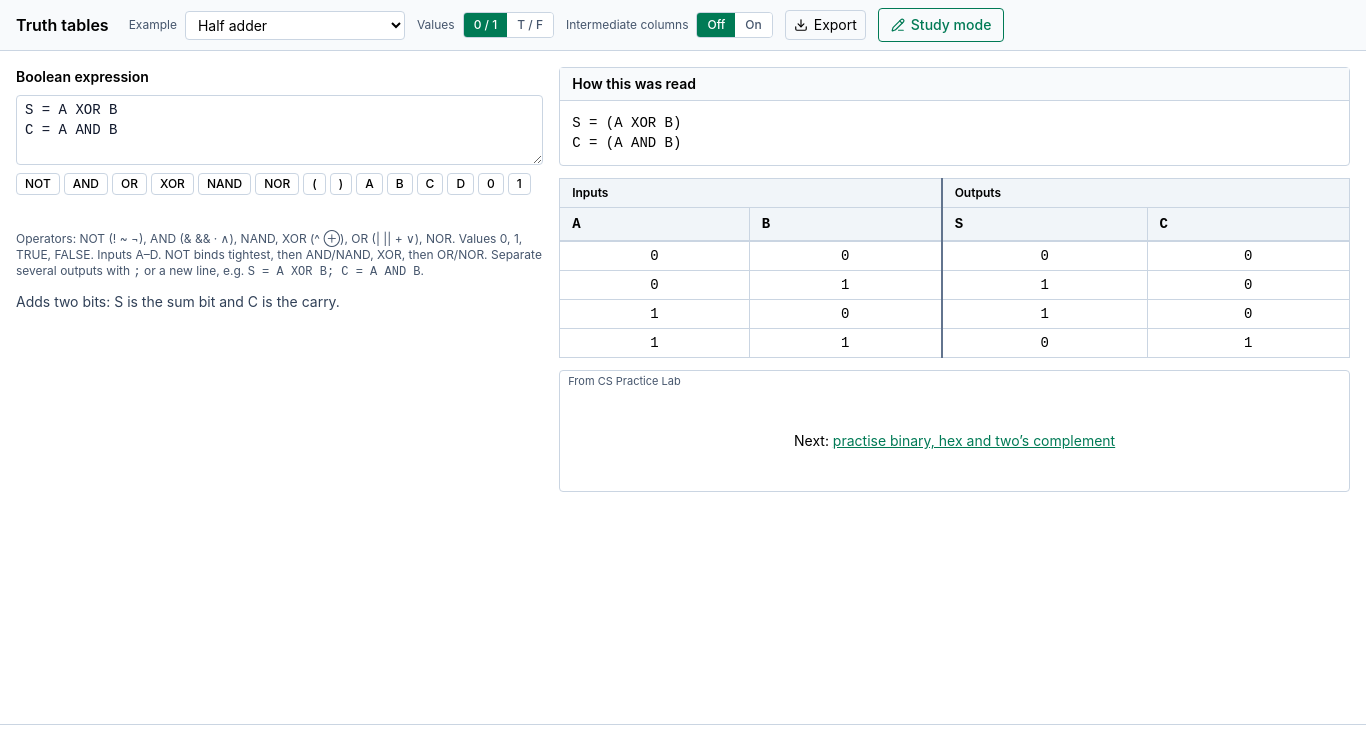
Truth Table Study Mode › keeps the keyboard contract: Enter/↓ next, Shift+Enter/↑ previous, Alt+H hint, Alt+R reveal, Space types
The width and height of the screenshot is (1366, 753).
Click the button "Study mode". click: (941, 25)
box: top-left (878, 8), bottom-right (1004, 42)
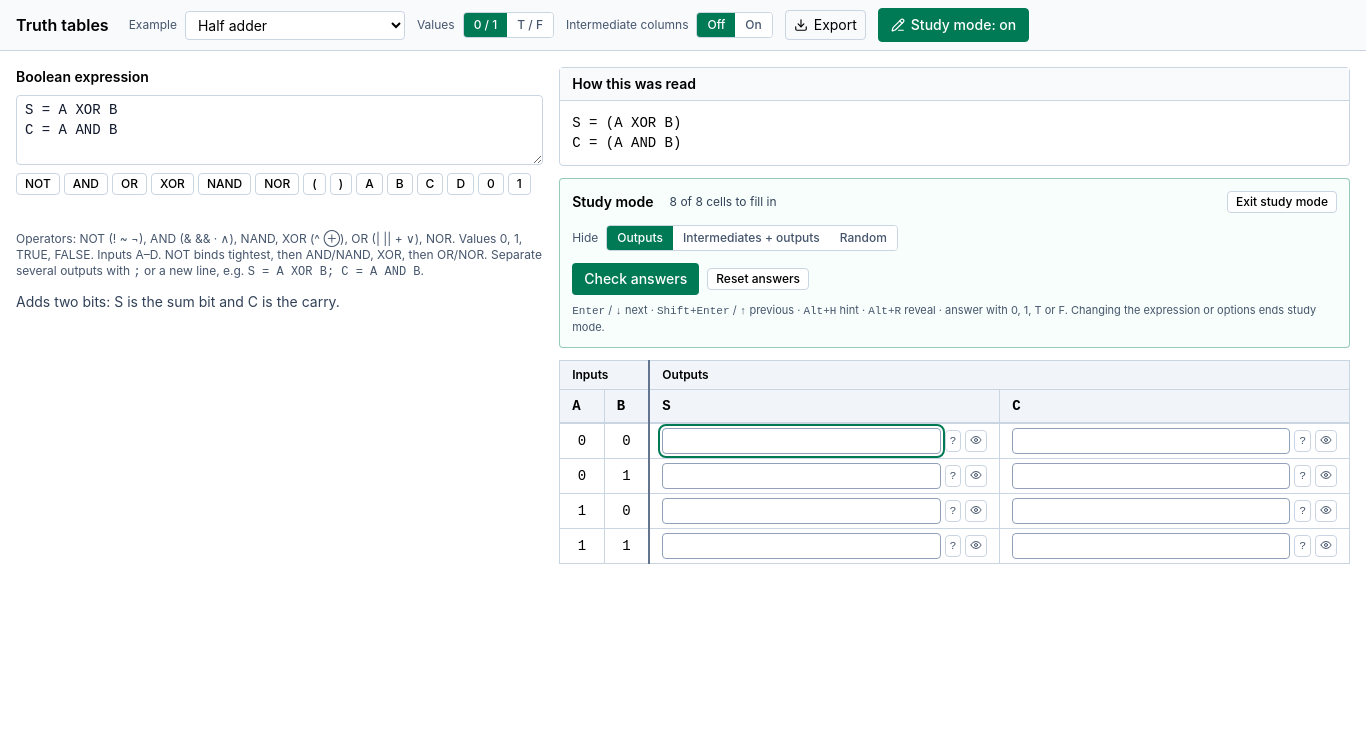
Expected: the number of fields named "Row 1, S" is 8
Press Enter
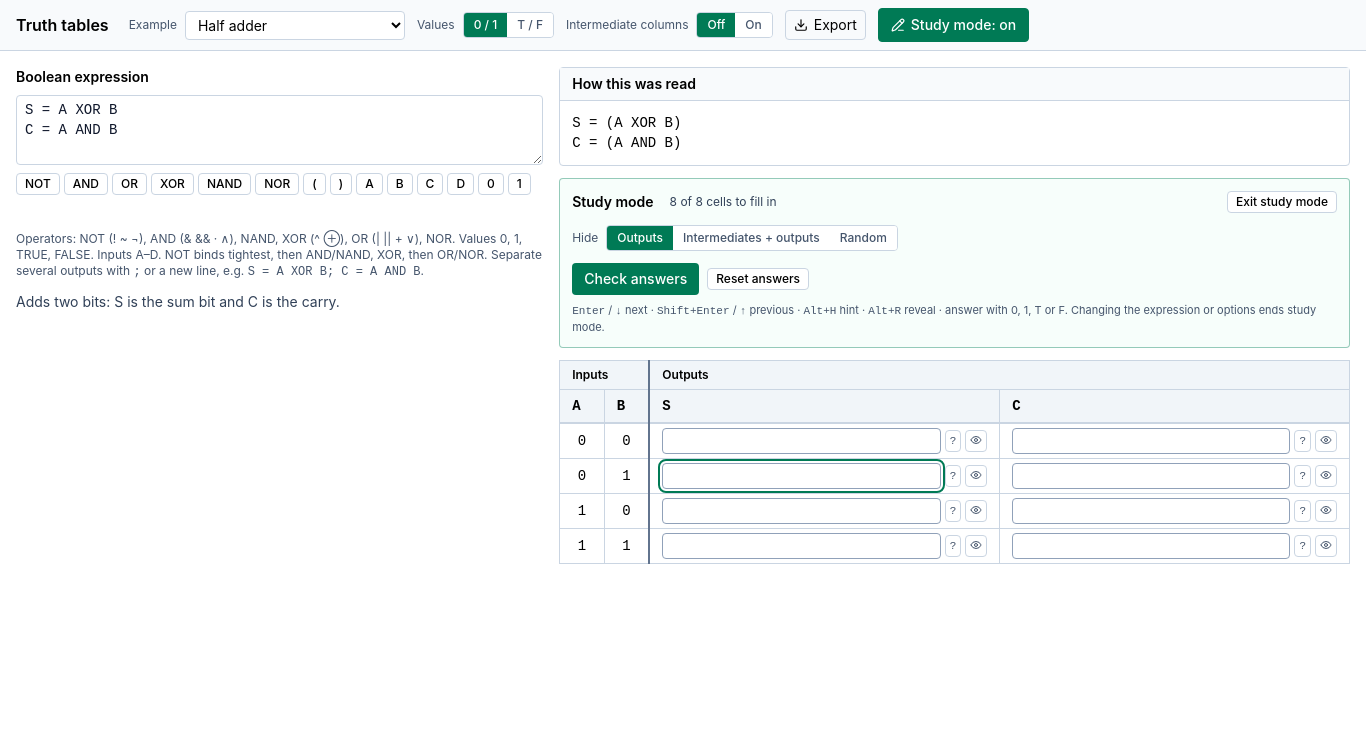
Type keys "{Shift>}{Enter}{/Shift}"
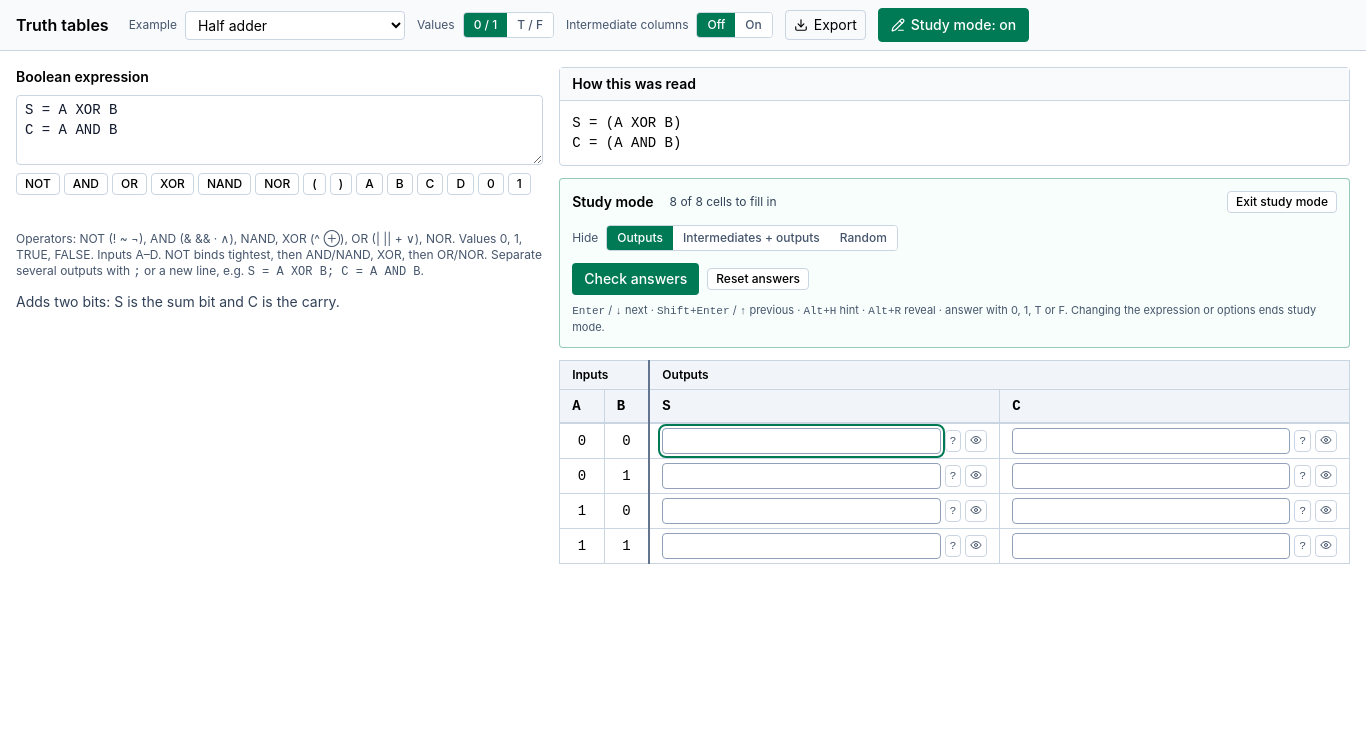
Press Arrowdown Arrowup
Type keys "{Alt>}h{/Alt}"
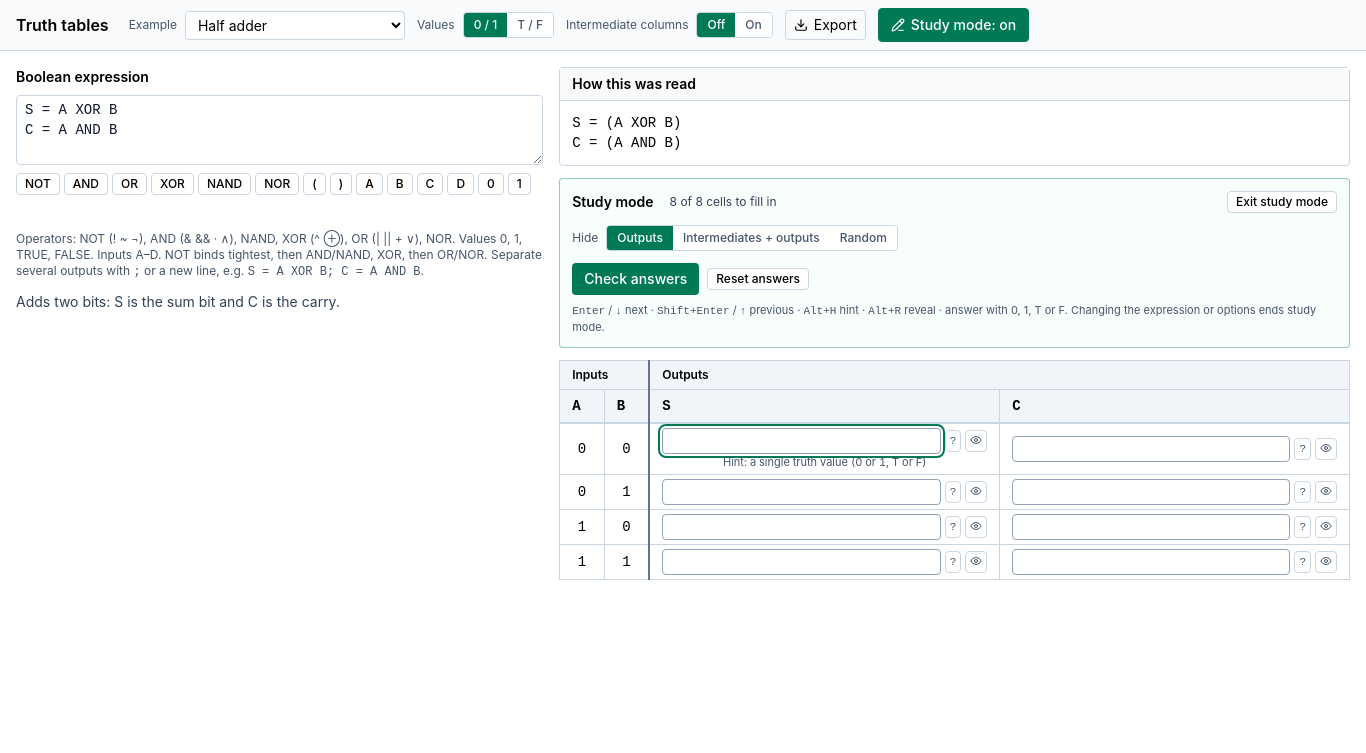
Type keys " 1"
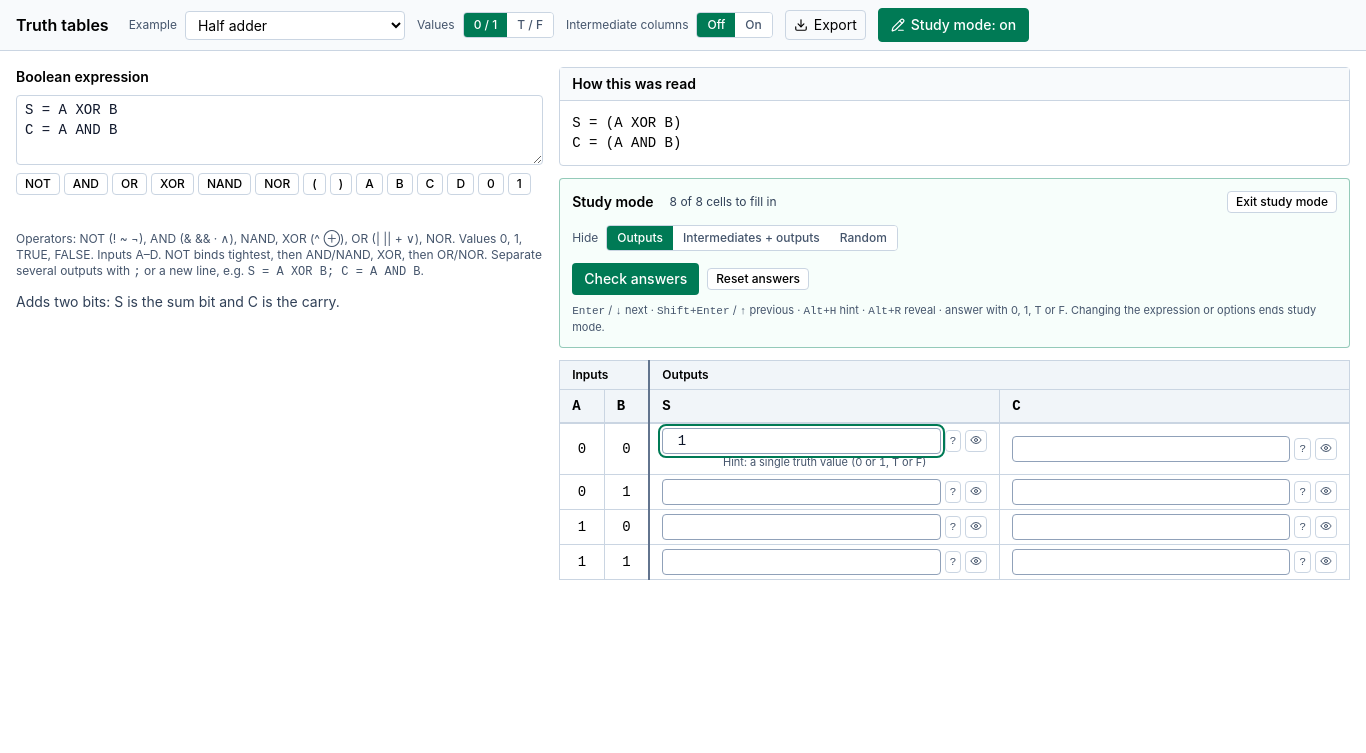
Expected: the field named "Row 1, S" holds " 1", top-left (662, 428), bottom-right (941, 454)
Type keys "{Alt>}r{/Alt}"
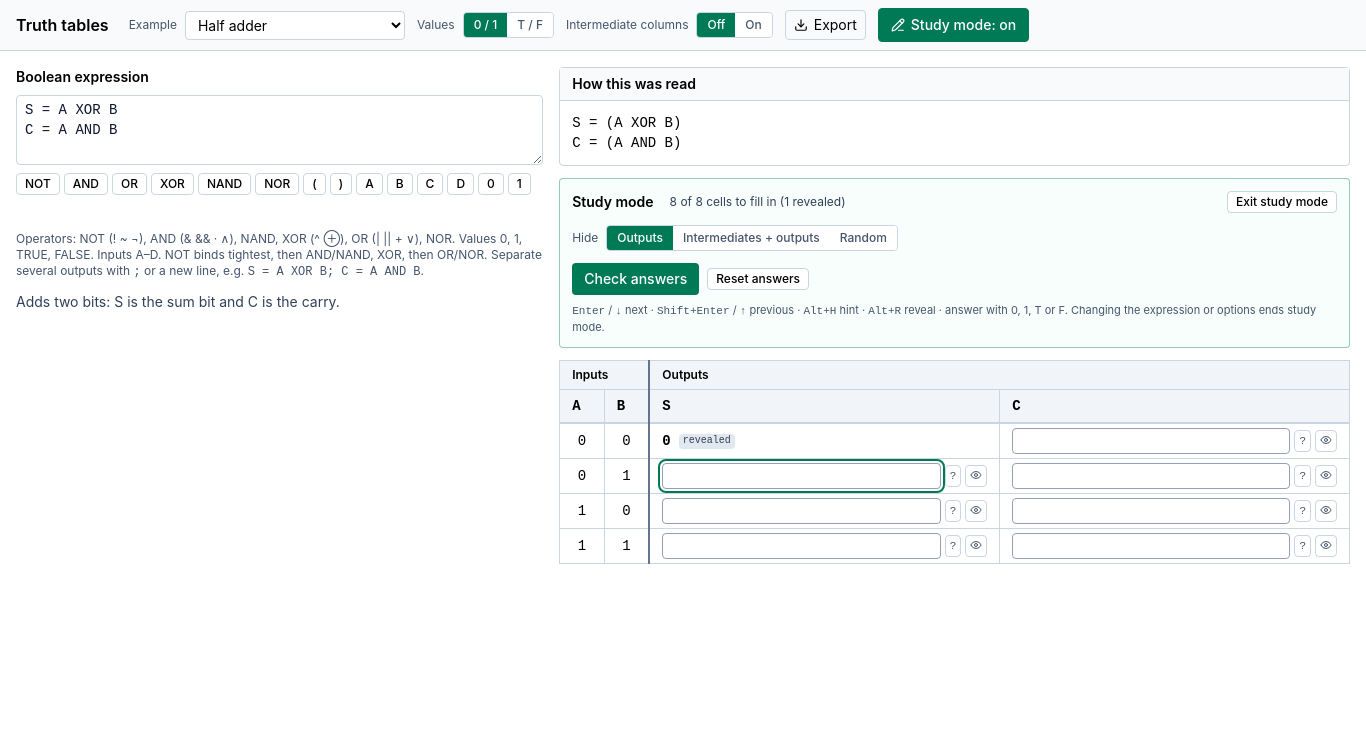
Expected: the number of fields named "Row 1, C" is 7
Expected: the number of elements with test id "revealed-cell" is 1, top-left (662, 433), bottom-right (735, 449)
